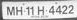character: (15, 5, 23, 16), (37, 5, 45, 16), (6, 6, 15, 15), (61, 4, 68, 15), (67, 4, 74, 15), (48, 5, 55, 15), (55, 5, 62, 14), (25, 6, 30, 16), (29, 6, 34, 16)
